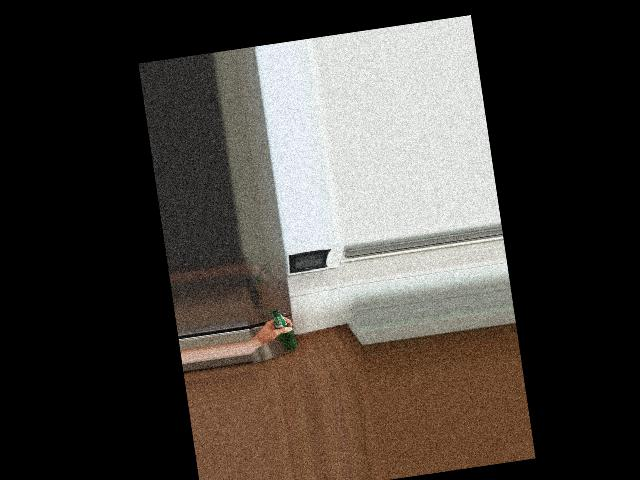beer: (270, 307, 297, 352)
